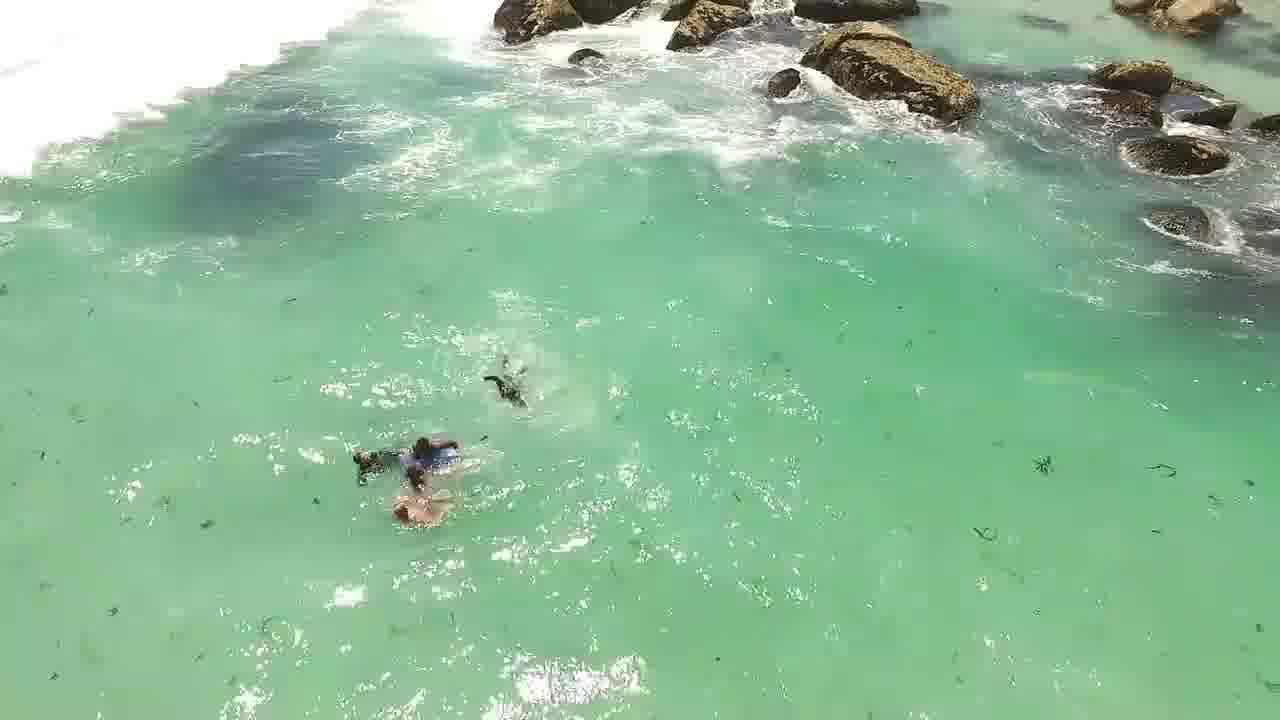human: (470, 362, 528, 414), (338, 437, 375, 474), (398, 429, 445, 451), (383, 499, 419, 524), (401, 460, 431, 478)
